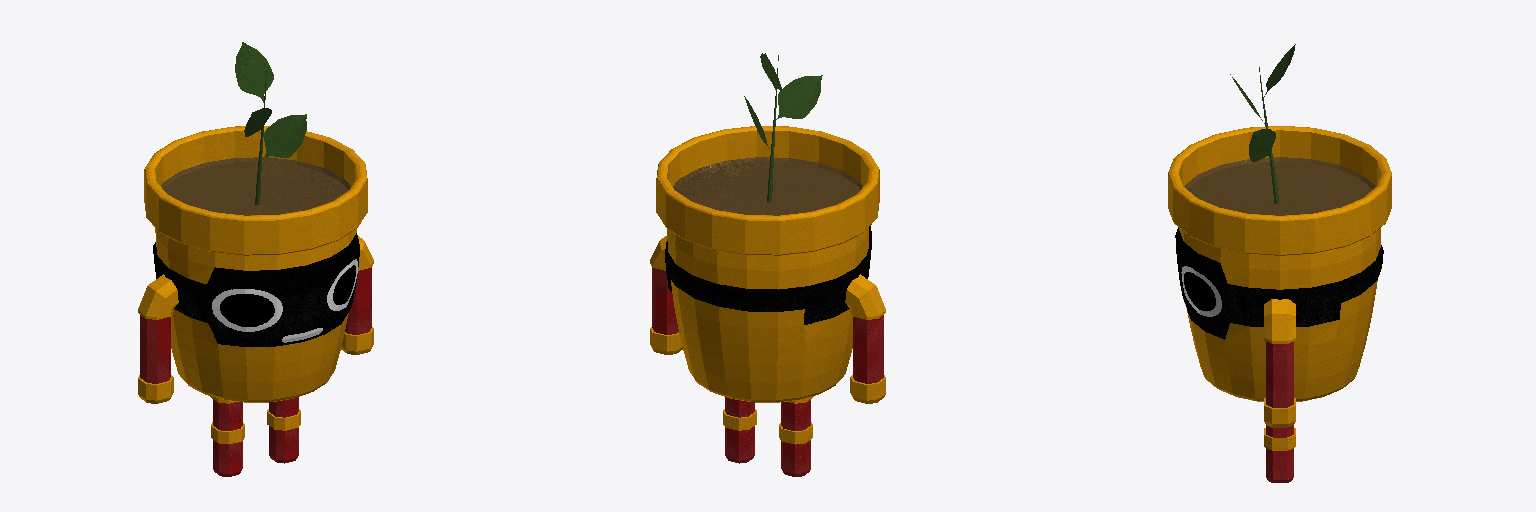
3 views of the same model, side by side, from view 1: azimuth 30°, elevation 25°; view 2: azimuth 150°, elevation 25°; view 3: azimuth 270°, elevation 25° (orthographic).
Visible parts, largest first — view 1: pCylinder1, pCube1, pPlane2, pPlane1, pCube2, pCube5, pCube11, pCube9, pCube13, pCube3, pCube6; view 2: pCylinder1, pCube1, pPlane3, pCube5, pCube2, pCube11, pCube9, pCube13, pCube3, pCube6; view 3: pCylinder1, pCube5, pCube4, pCube9, pPlane1, pCube6.
Boxes of the visible parts, <box> form: pCylinder1: <box>144,126,367,402</box>; pCube1: <box>140,315,170,383</box>; pPlane2: <box>235,42,273,102</box>; pPlane1: <box>262,114,306,159</box>; pCube2: <box>138,274,178,319</box>; pCube5: <box>345,267,371,334</box>; pCube11: <box>213,440,242,476</box>; pCube9: <box>269,426,298,463</box>; pCube13: <box>213,399,242,430</box>; pCube3: <box>138,375,173,403</box>; pCube6: <box>341,327,373,354</box>; pCylinder1: <box>656,126,879,402</box>; pCube1: <box>853,315,883,383</box>; pPlane3: <box>776,75,822,119</box>; pCube5: <box>652,267,678,334</box>; pCube2: <box>845,274,885,319</box>; pCube11: <box>781,440,810,476</box>; pCube9: <box>725,426,754,463</box>; pCube13: <box>781,399,810,430</box>; pCube3: <box>850,375,885,403</box>; pCube6: <box>650,327,682,354</box>; pCylinder1: <box>1168,126,1391,401</box>; pCube5: <box>1266,341,1293,407</box>; pCube4: <box>1264,299,1295,343</box>; pCube9: <box>1266,448,1293,482</box>; pPlane1: <box>1249,129,1275,162</box>; pCube6: <box>1264,398,1295,427</box>.
Size of the model in its own units: 9.61 by 16.9 by 8.17.
Materials: 1 (1 with a texture image).